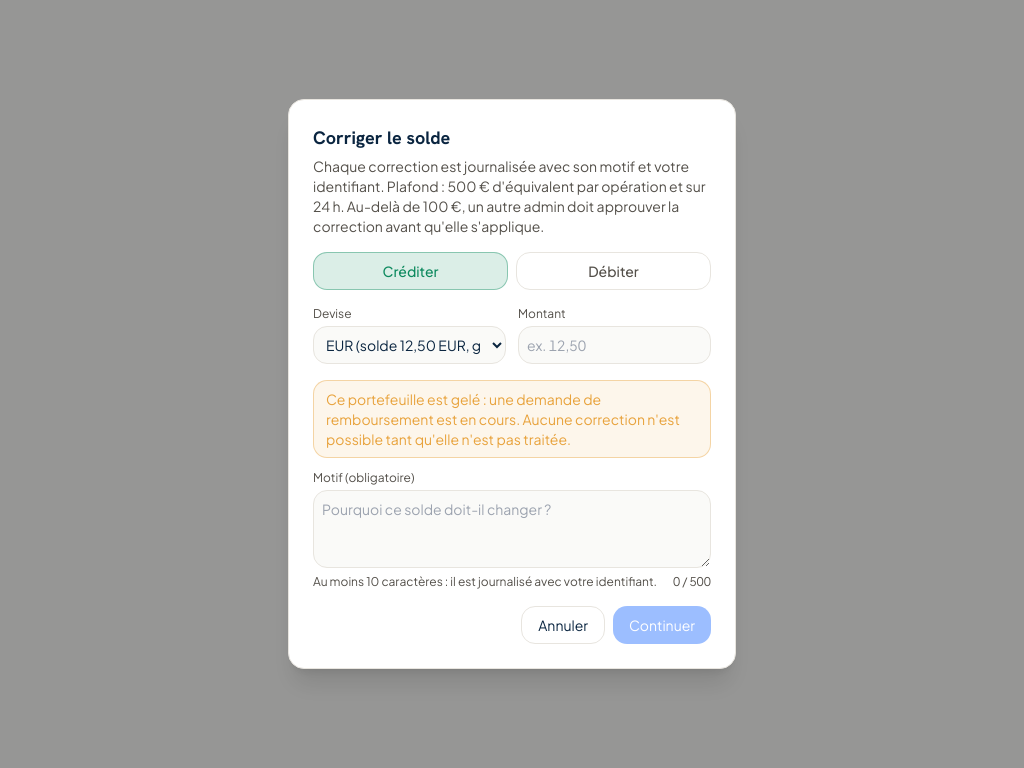
Test: WalletAdjustmentDialog › portefeuille gelé : bouton désactivé avec explication
The width and height of the screenshot is (1024, 768).
Type "5" into the field with test id "adj-amount" at (614, 345), box [518, 326, 711, 364]
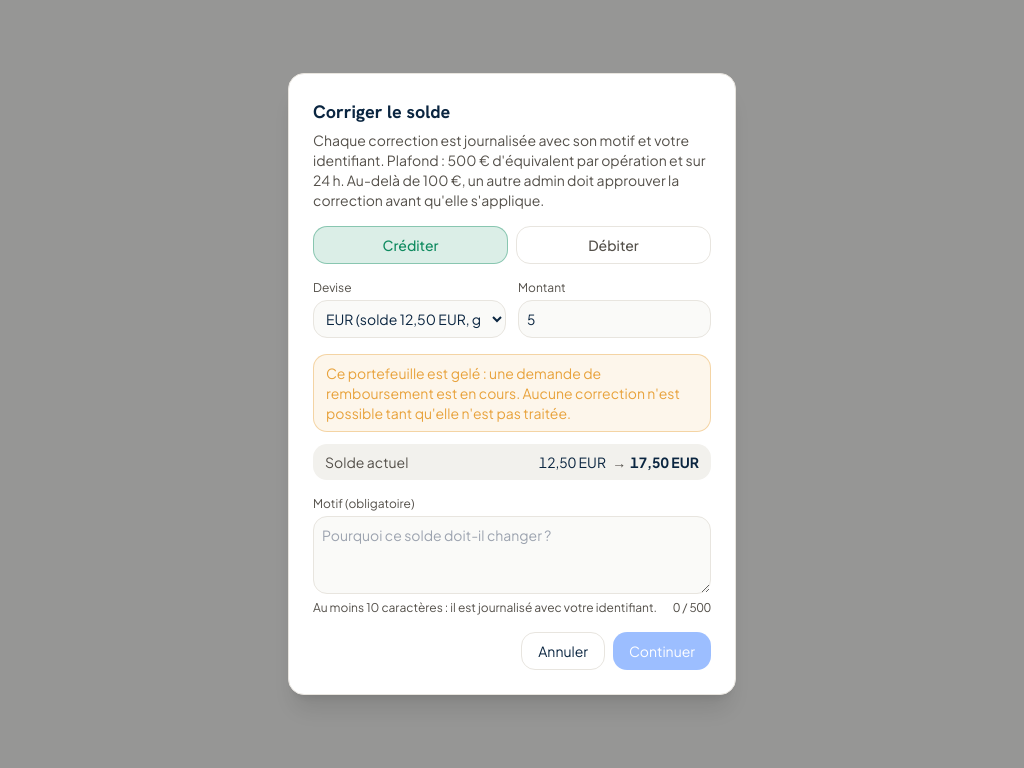
Type "Geste commercial après incident de livraison" into the text box with test id "adj-reason" at (512, 555), box [313, 516, 711, 594]
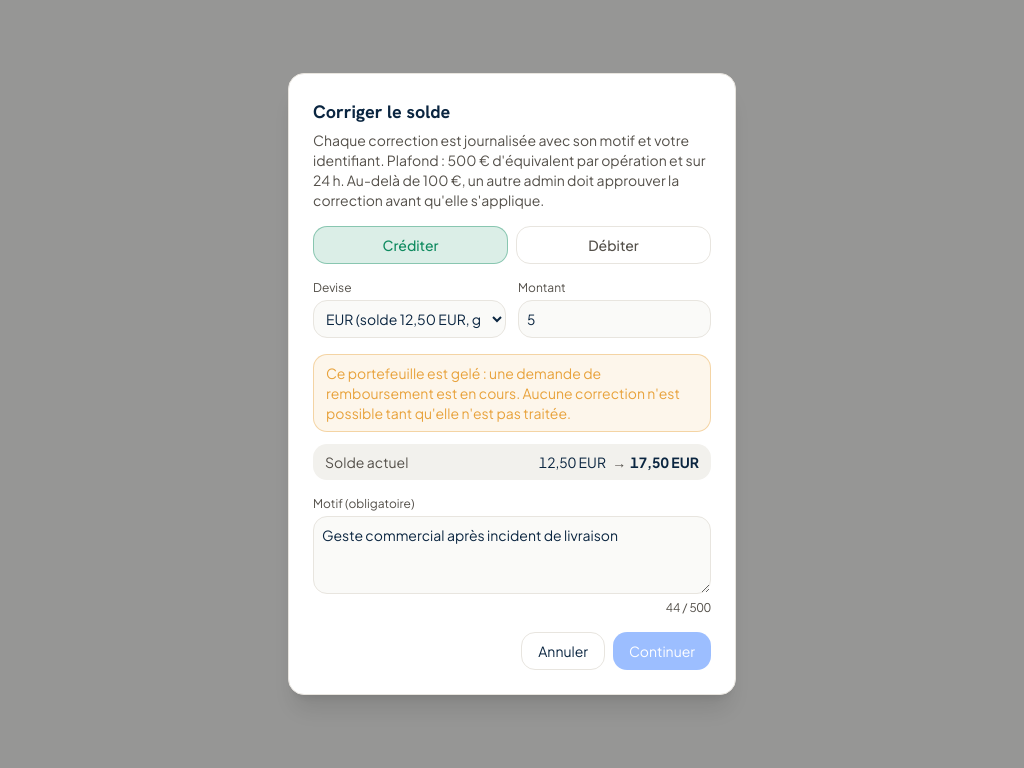
Expected: the button with test id "adj-frozen" shows "gelé", [326, 364, 680, 422]
Expected: the button with test id "adj-continue" is disabled, [613, 632, 711, 670]
Select "XAF (sans compte)" in the dropdown with test id "adj-currency" at (410, 319), box [313, 300, 506, 338]
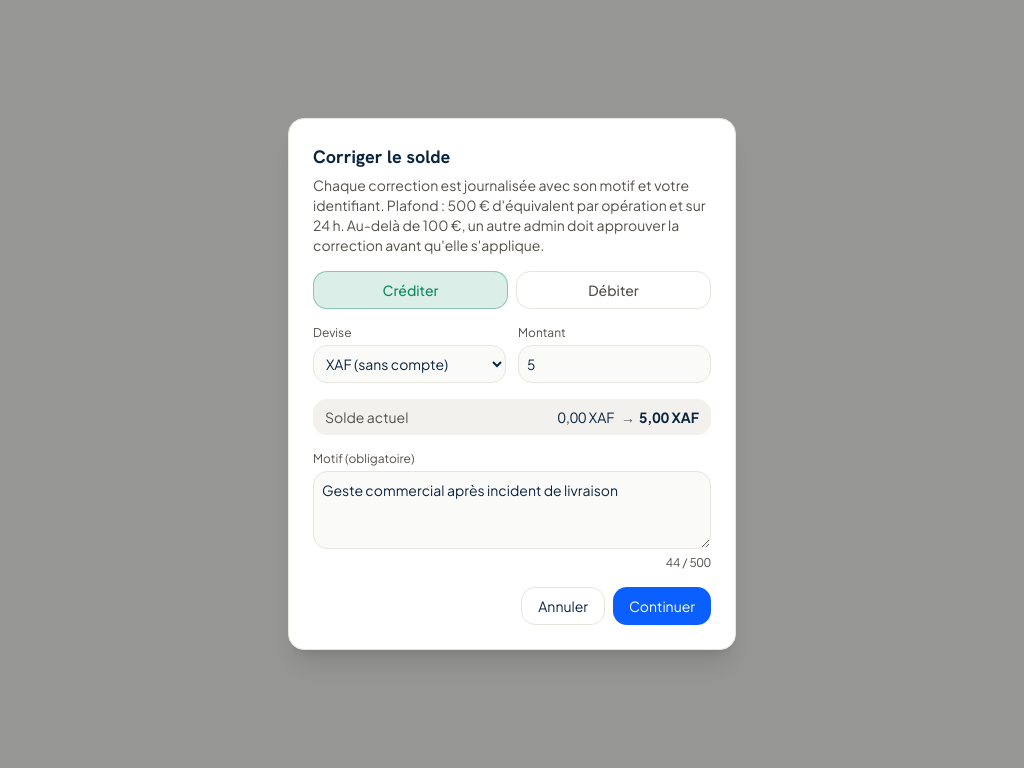
Result: the button with test id "adj-continue" is enabled at [613, 587, 711, 625]
